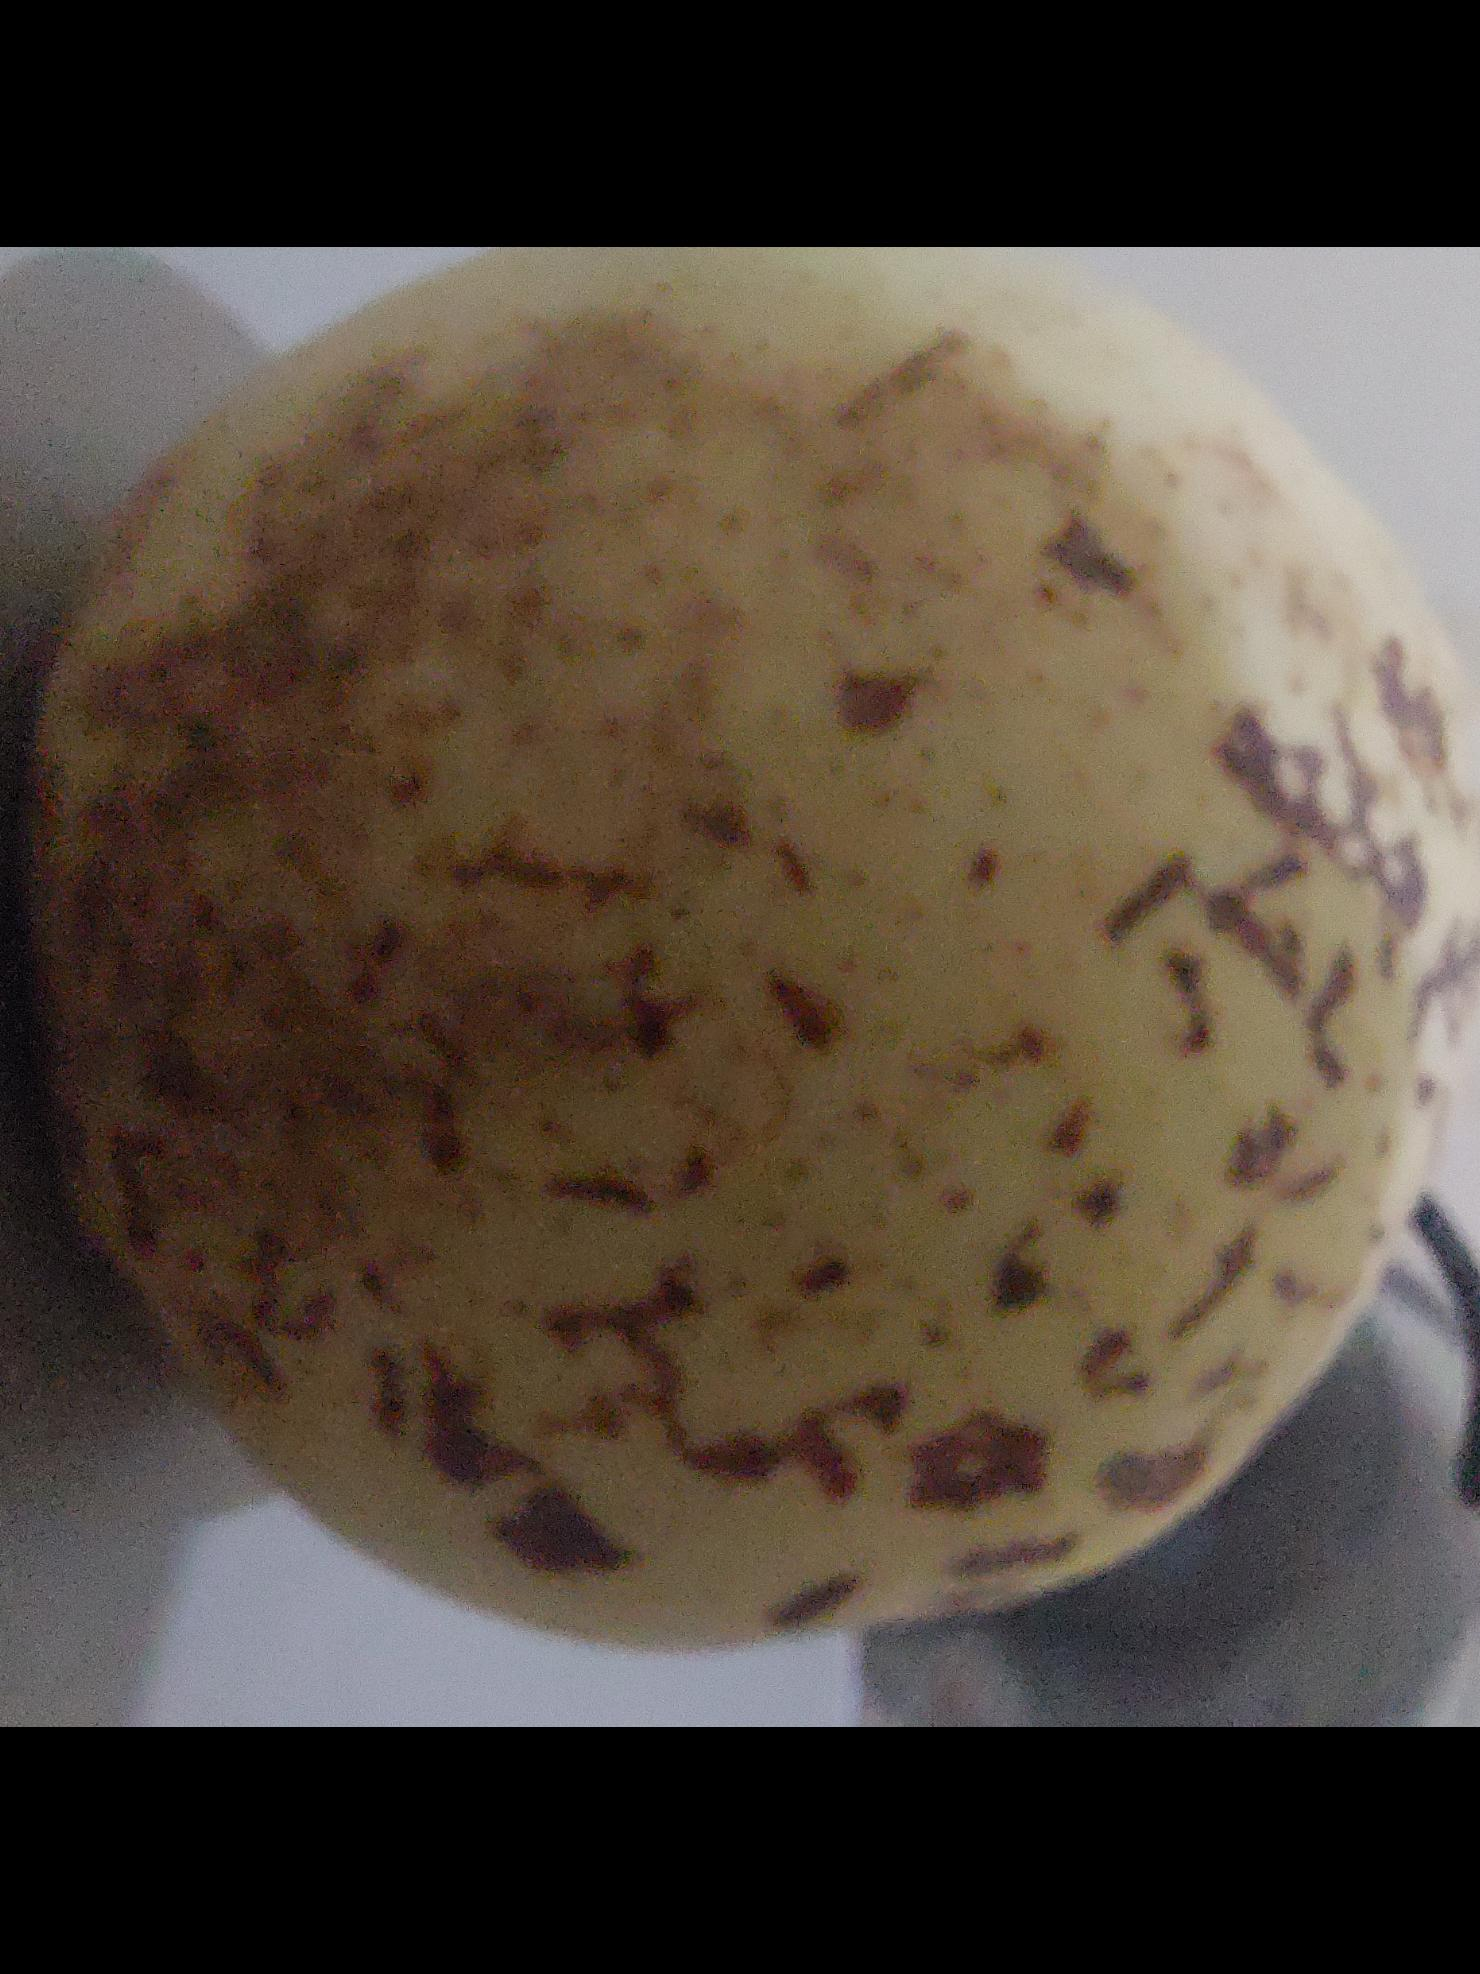Bad Pear: (0, 263, 1480, 1674)
